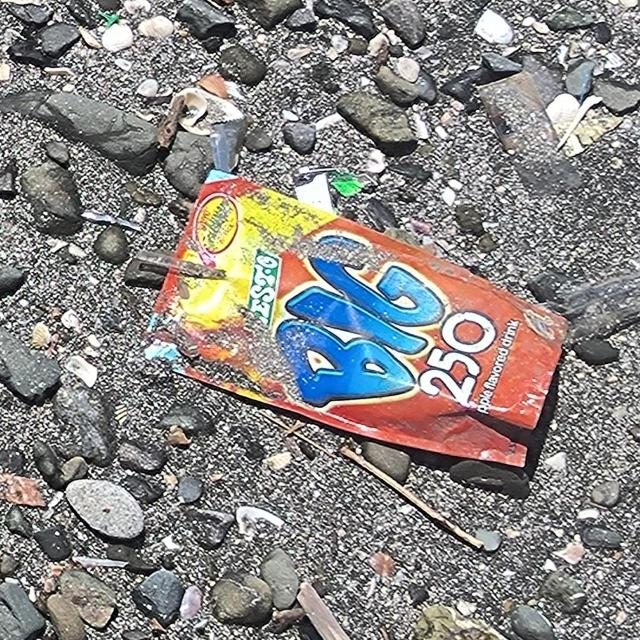plastic_waste: (148, 171, 571, 469)
